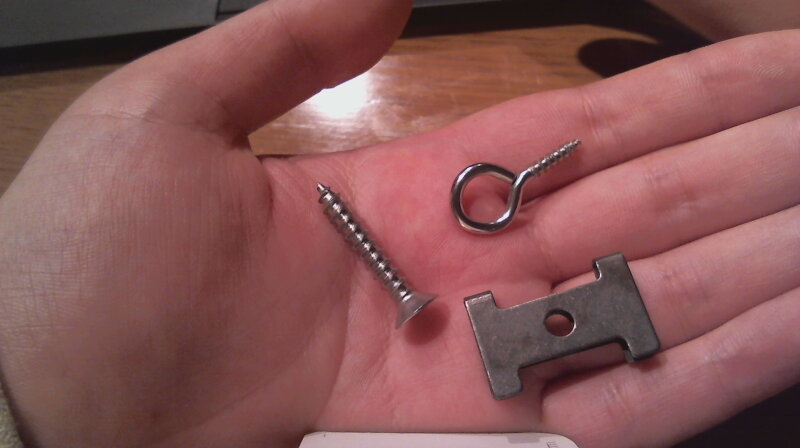O001: (447, 133, 589, 238)
O002: (461, 251, 665, 402)
S001: (312, 179, 441, 336)
